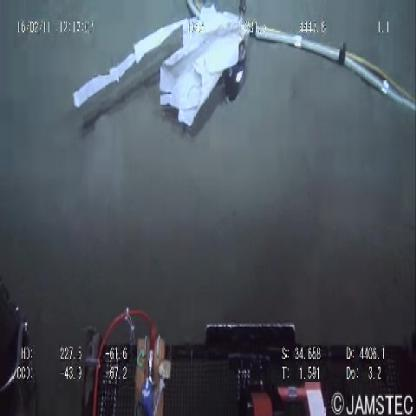Rov: (79, 310, 339, 414)
Rác: (69, 7, 249, 130)
